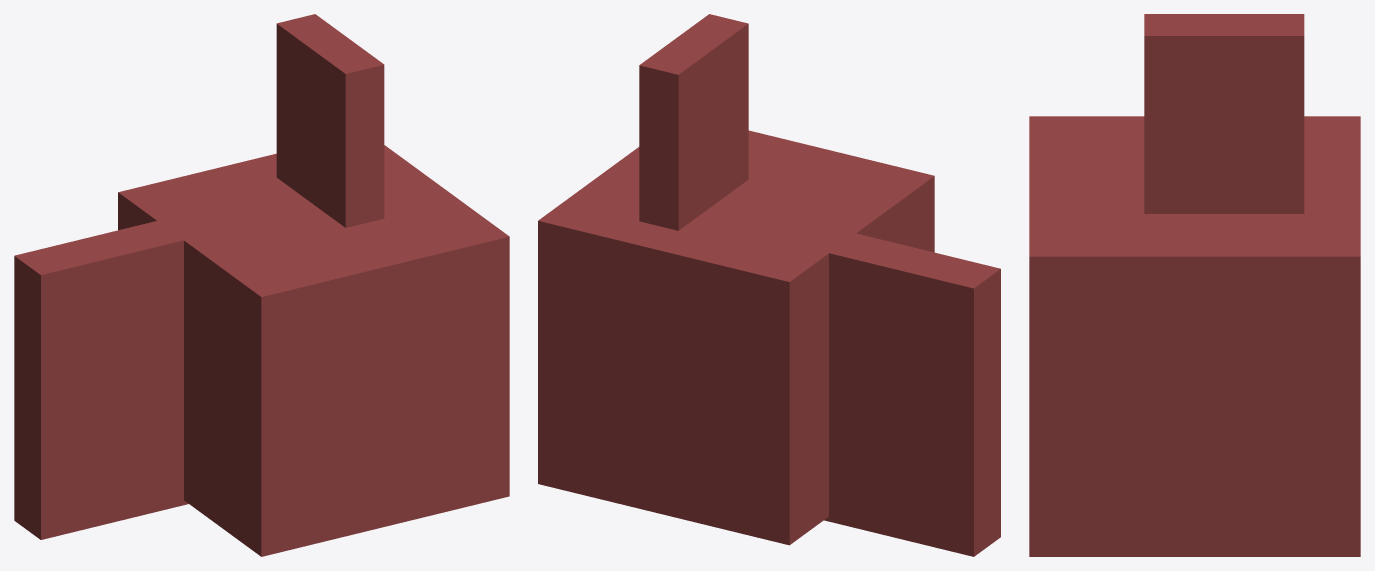
3 views of the same model, side by side, from view 1: azimuth 30°, elevation 25°; view 2: azimuth 150°, elevation 25°; view 3: azimuth 270°, elevation 25° (orthographic). The views are drawn at different scales.
Visible parts, largest first — view 1: Cube; view 2: Cube; view 3: Cube.
Boxes of the visible parts, bbox=[...] form: Cube: bbox=[14, 14, 509, 556]; Cube: bbox=[538, 14, 1000, 556]; Cube: bbox=[1029, 14, 1360, 556].
Size of the model in its own units: 3.15 by 3.22 by 2.
